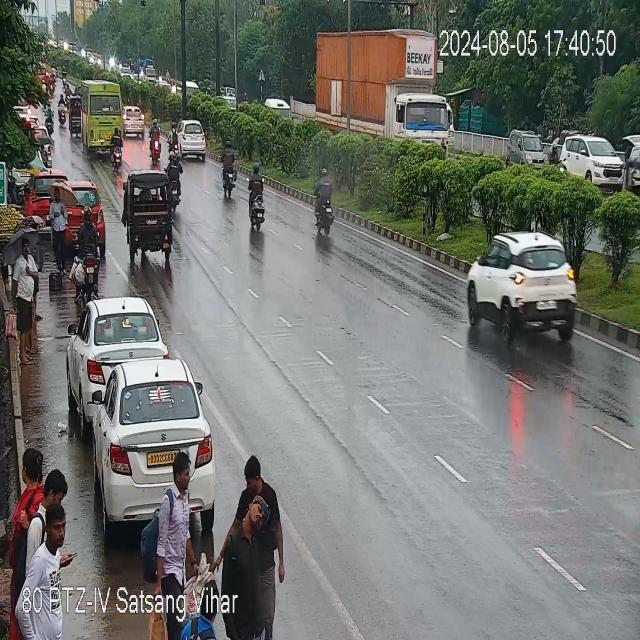2-wheelers: (68, 192, 105, 308), (314, 156, 342, 250), (215, 126, 244, 206), (247, 150, 272, 237), (164, 148, 188, 215), (107, 124, 127, 175), (146, 119, 164, 164), (5, 172, 29, 203), (165, 120, 179, 164), (546, 136, 562, 173), (55, 93, 71, 126), (43, 101, 57, 135), (62, 82, 74, 110), (39, 77, 51, 102), (49, 63, 60, 84), (61, 63, 69, 90), (47, 72, 56, 96), (242, 80, 250, 104), (165, 68, 172, 81)
auto: (119, 169, 185, 270), (65, 88, 85, 138)
bus: (77, 82, 131, 160)
car: (92, 359, 230, 554), (464, 212, 587, 369), (68, 292, 166, 439), (558, 116, 629, 190), (48, 180, 112, 260), (61, 174, 104, 264), (23, 164, 73, 228), (501, 118, 547, 170), (174, 112, 210, 167), (260, 82, 300, 123), (621, 118, 640, 192), (123, 95, 146, 142), (33, 126, 56, 168), (14, 102, 44, 132), (222, 80, 239, 106), (117, 62, 135, 82), (185, 81, 199, 97)
pedestrian: (220, 441, 289, 634), (19, 433, 84, 575), (143, 452, 206, 592), (212, 482, 270, 631), (15, 441, 51, 564), (11, 203, 40, 354), (24, 492, 70, 586), (47, 180, 75, 269), (37, 133, 55, 166)
truck: (308, 27, 439, 158), (142, 58, 160, 84)
